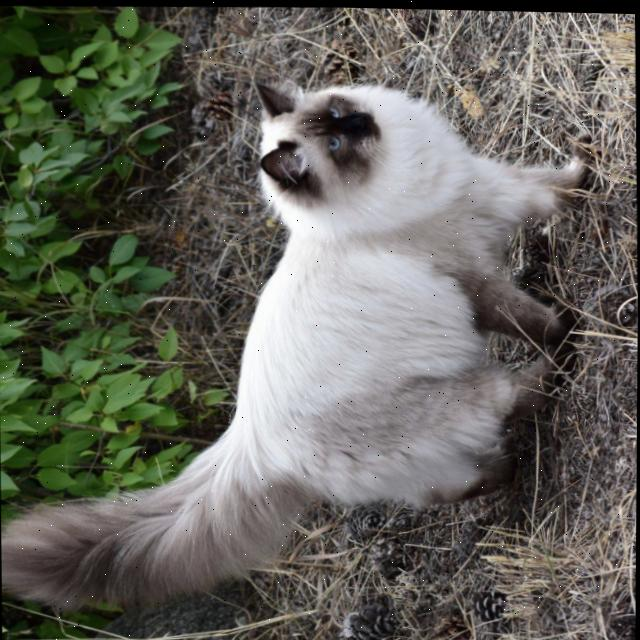Neva Masquerade: (0, 61, 604, 625)
